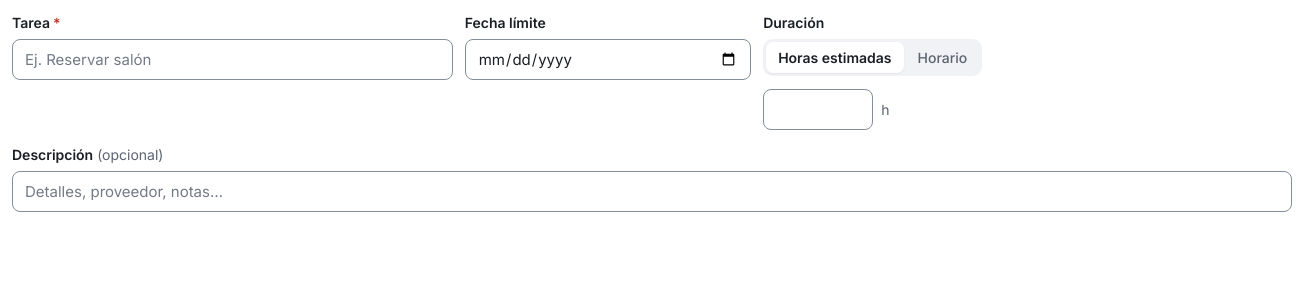
Test: marca el campo cuando está mal › señala la hora de fin anterior a la de inicio al instante, sin esperar a guardar
The image size is (1304, 308).
Click the radio button labelled "Horario": {"x": 942, "y": 58} [906, 42, 979, 73]
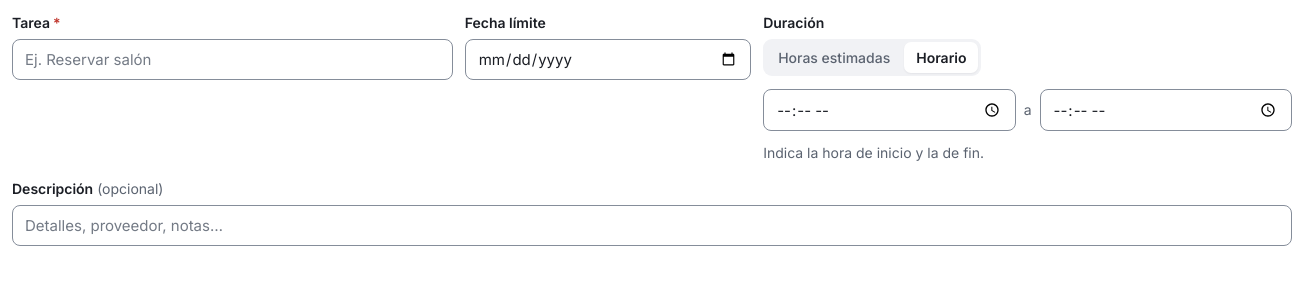
In the time field named "Hora de inicio": {"x": 889, "y": 110} [763, 89, 1016, 131], type "11:00"
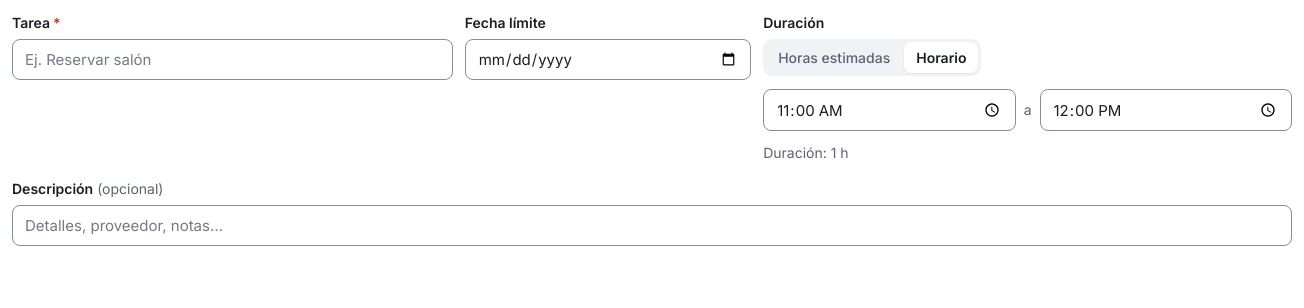
Replace the text in the time field named "Hora de fin" with "09:00": {"x": 1166, "y": 110} [1040, 89, 1292, 131]
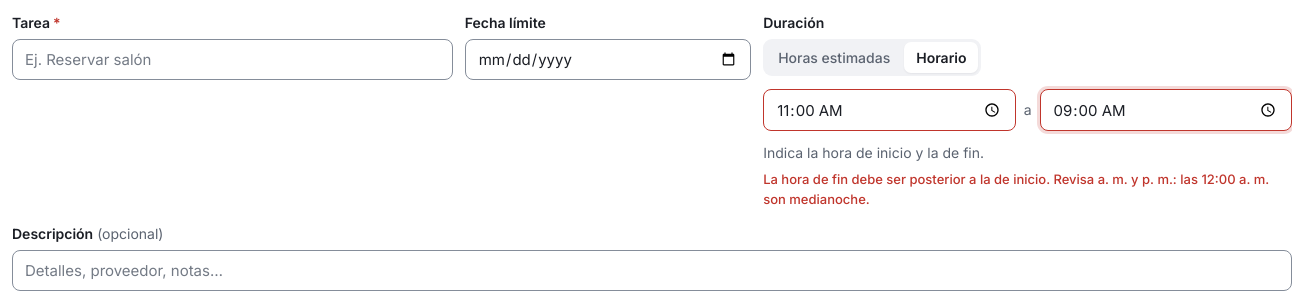
Now the text "debe ser posterior a la de inicio" shows "12:00 a. m. son medianoche", box [763, 171, 1269, 207]
Now the message shows "debe ser posterior a la de inicio", box [763, 171, 1269, 207]
